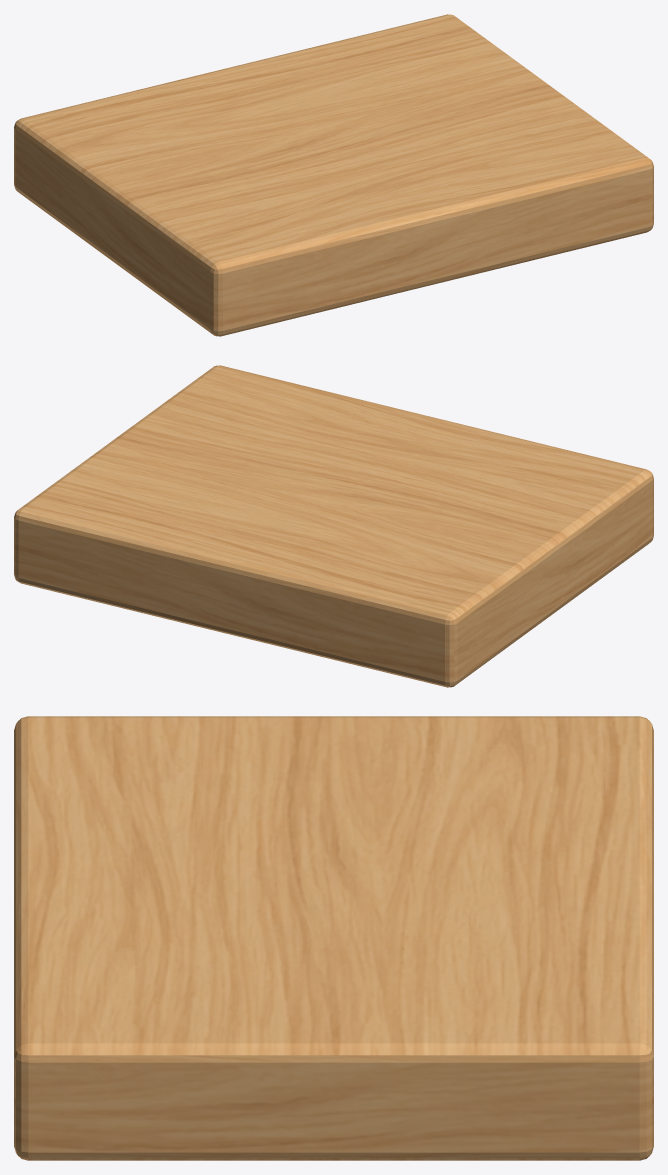
Rendered from platform.glb.
The picture shows the model from 3 angles, top to bottom: view 1: azimuth 30°, elevation 25°; view 2: azimuth 150°, elevation 25°; view 3: azimuth 270°, elevation 25°; orthographic projection. The views are drawn at different scales.
Visible parts, largest first — view 1: platform; view 2: platform; view 3: platform.
Part boxes in pixels (<box>): platform: <box>14,14,653,336</box>; platform: <box>14,365,653,687</box>; platform: <box>14,716,653,1160</box>.
Bounding box in the file's own units: 1 × 0.16 × 0.8.
Materials: 1 (1 with a texture image).
